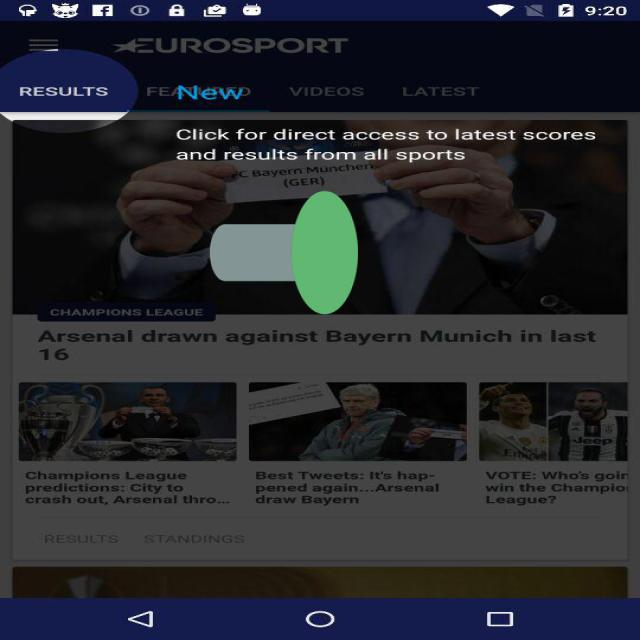social proof: (210, 115, 358, 390)
